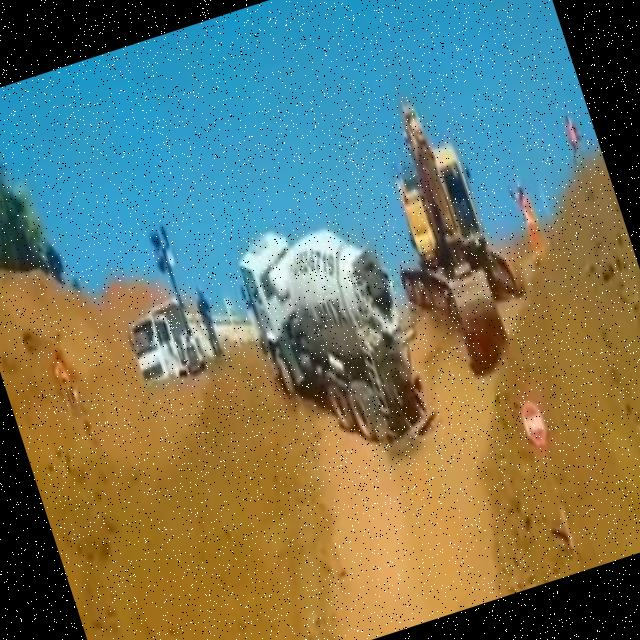Dump Truck: (121, 275, 260, 388)
Excavator: (352, 88, 540, 374)
Mixer Truck: (227, 193, 453, 486)
